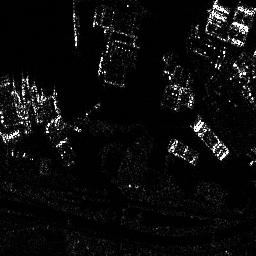ship: (70, 10, 81, 48)
